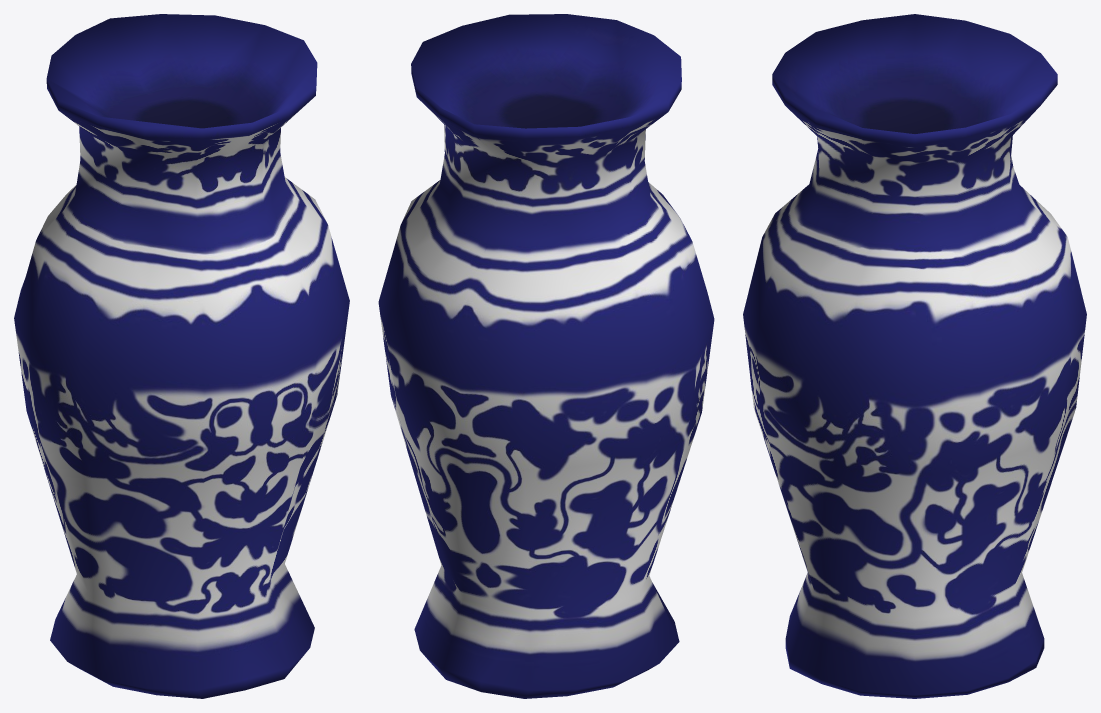
File: VaseFullModel.fbx
3 views of the same model, side by side, from view 1: azimuth 30°, elevation 25°; view 2: azimuth 150°, elevation 25°; view 3: azimuth 270°, elevation 25° (orthographic).
Parts seen in each view (by area): view 1: Cube; view 2: Cube; view 3: Cube.
Boxes of the visible parts, left/top/right/bottom form: Cube: left=14, top=14, right=349, bottom=698; Cube: left=378, top=14, right=714, bottom=698; Cube: left=743, top=14, right=1086, bottom=698.
Size of the model in its own units: 141 by 255 by 138.
